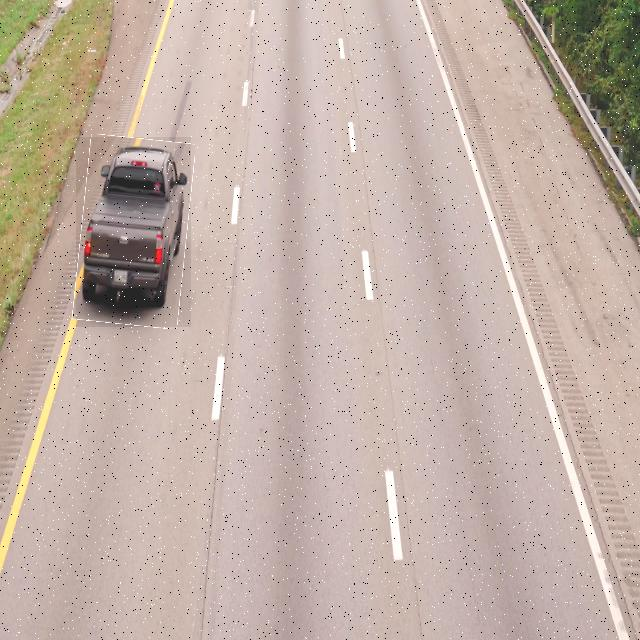Truck: (76, 137, 191, 327)
